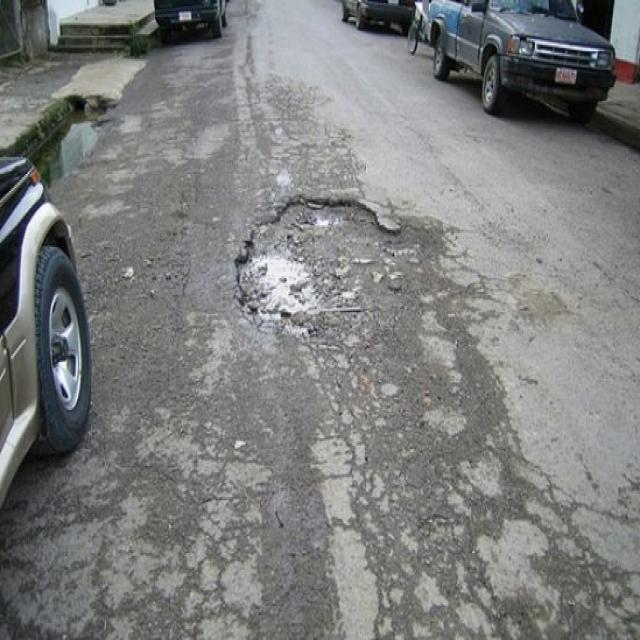pothole: (235, 192, 432, 344)
